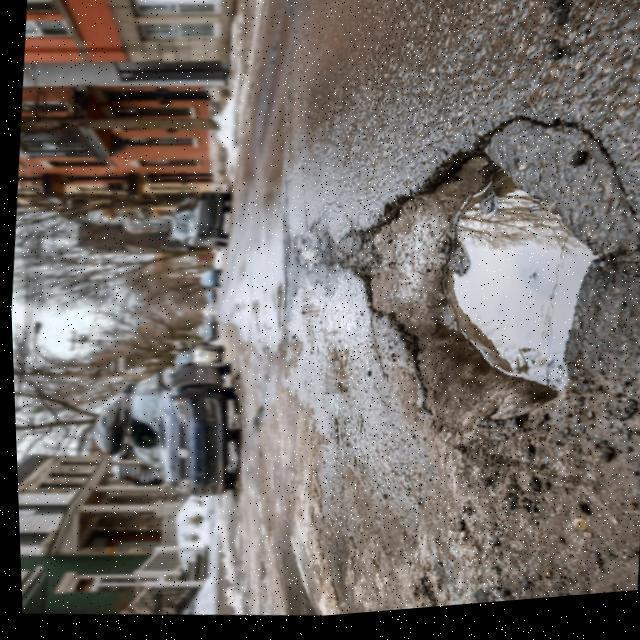Pothole: (346, 145, 594, 440)
